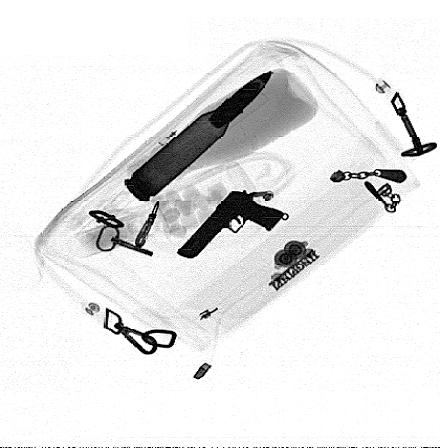Bullet: (124, 69, 275, 204)
Gun: (175, 189, 286, 259)
